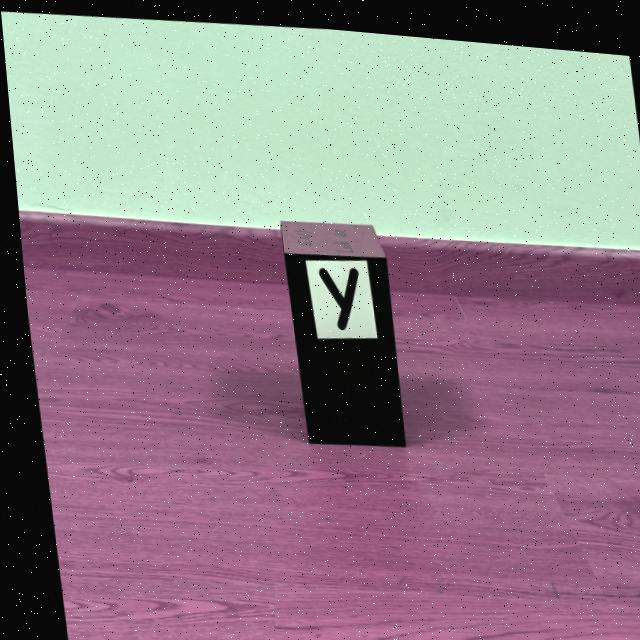Y: (313, 261, 353, 324)
